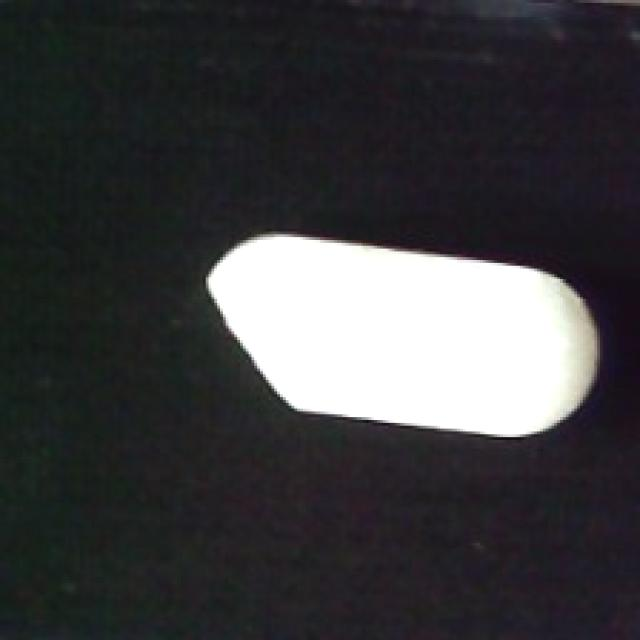defected: (206, 234, 603, 440)
